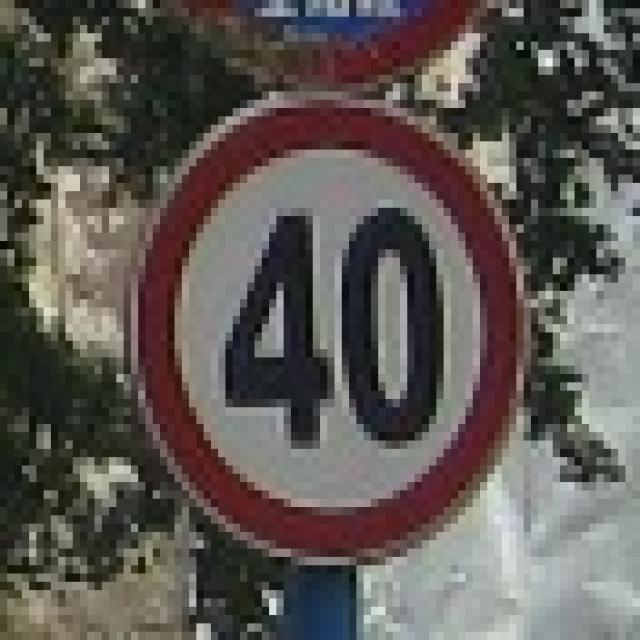Speed Limit -40-: (220, 202, 450, 456)
